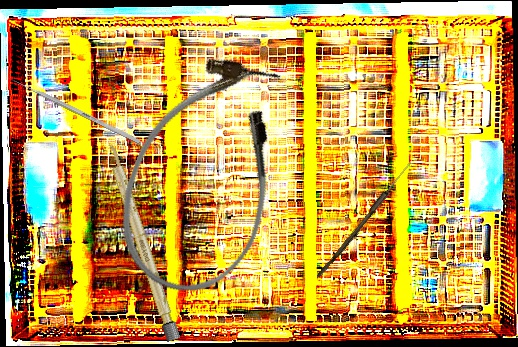Cannula: (98, 39, 311, 311)
Pusher: (5, 74, 141, 145)
Scalpel Handle: (103, 141, 181, 343)
Surgical Spoon: (316, 159, 414, 280)
